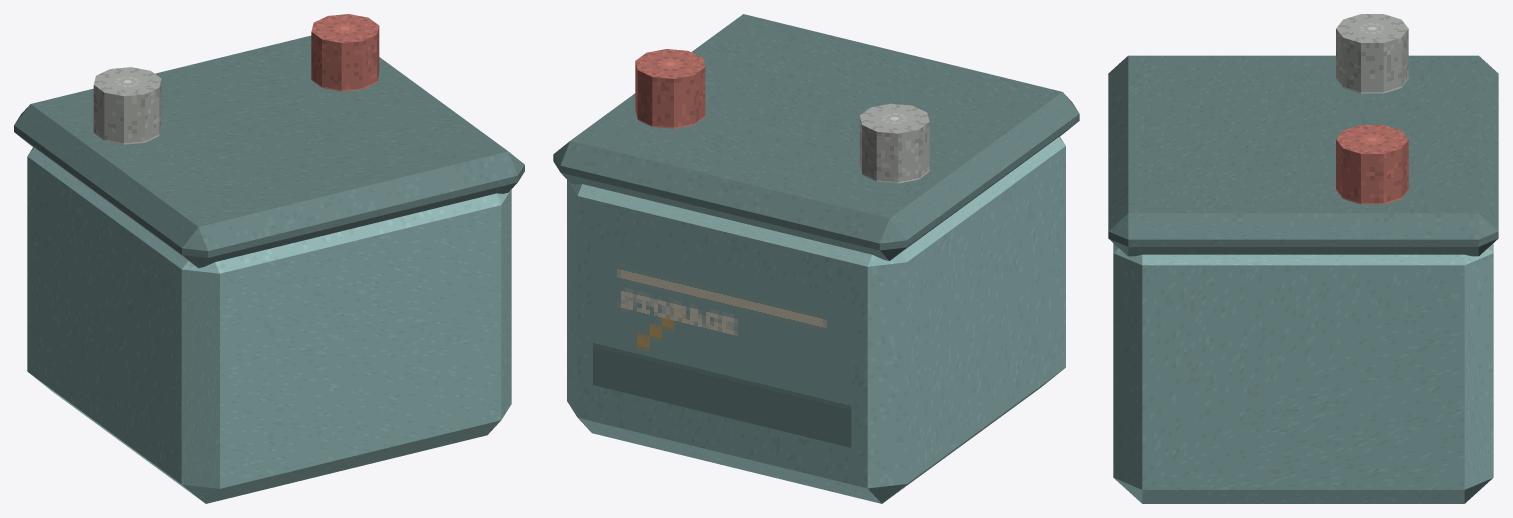
Rendered from small_storage_battery.glb.
The picture shows the model from 3 angles, left to right: view 1: azimuth 30°, elevation 25°; view 2: azimuth 150°, elevation 25°; view 3: azimuth 270°, elevation 25°; orthographic projection. The views are drawn at different scales.
Visible parts, largest first — view 1: block_battery casing, block_molded terminal cover, block_post (×2); view 2: block_battery casing, block_molded terminal cover, block_rating label, block_post (×2); view 3: block_battery casing, block_molded terminal cover, block_post (×2).
Boxes of the visible parts, box(x1,y1,x2,y2) form: block_battery casing: box(27, 147, 511, 503); block_molded terminal cover: box(14, 35, 524, 268); block_post (×2): box(93, 14, 379, 144); block_battery casing: box(567, 136, 1065, 503); block_molded terminal cover: box(553, 14, 1079, 260); block_rating label: box(593, 237, 851, 447); block_post (×2): box(635, 49, 929, 183); block_battery casing: box(1113, 243, 1493, 503); block_molded terminal cover: box(1108, 55, 1498, 256); block_post (×2): box(1336, 14, 1408, 204).
Size of the model in its own units: 0.1349 by 0.1255 by 0.1275.
Materials: 1 (1 with a texture image).
